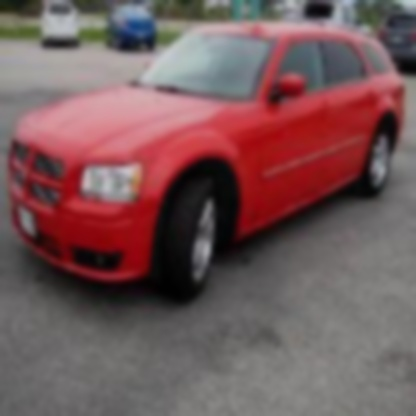Vehicle: (5, 17, 406, 311)
